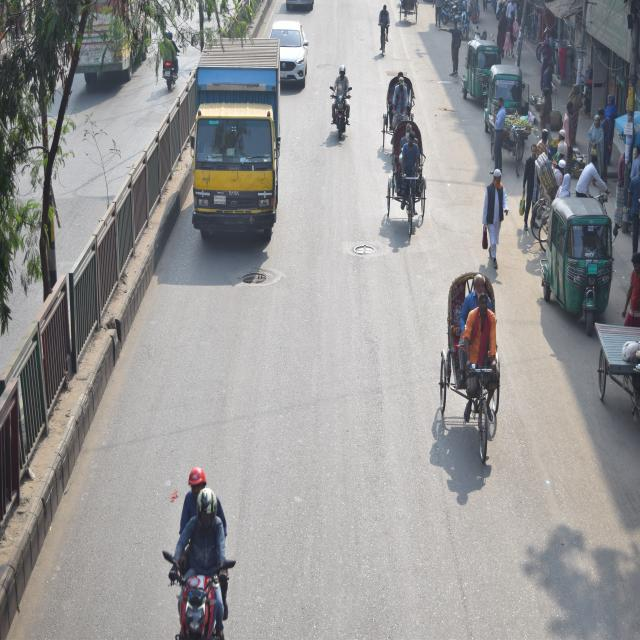bus: (70, 0, 147, 83)
car: (274, 17, 305, 88)
motorbike: (161, 535, 234, 640), (327, 82, 355, 143), (159, 53, 181, 94)
pickup-van: (193, 39, 281, 247)
